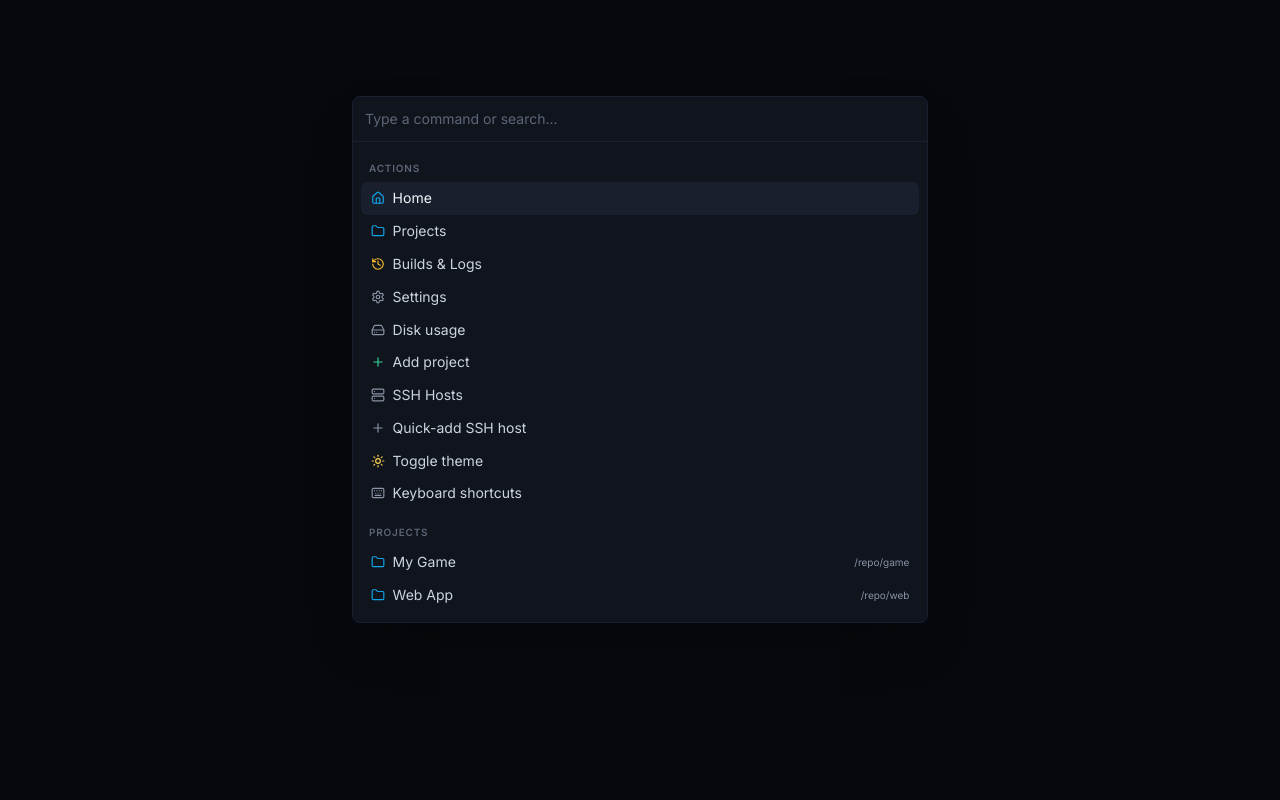
CommandPalette › filters results by query as the user types
Type "iOS Release" into the dropdown with placeholder "Type a command or search..." at (640, 119), box [365,97,915,141]
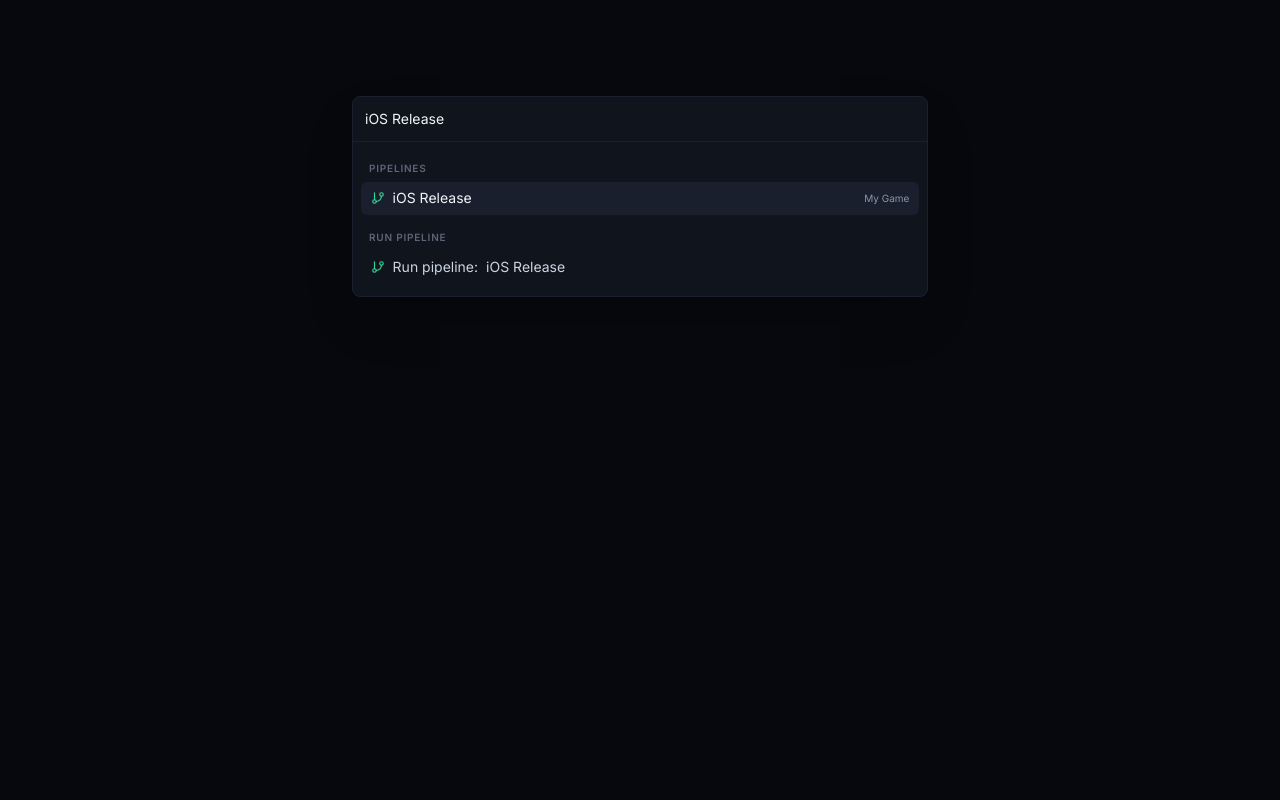
Expected: the text "Lint and Deploy" is not shown
Expected: the text "iOS Release" in the row of "My Game" is shown, [393,189,472,206]
